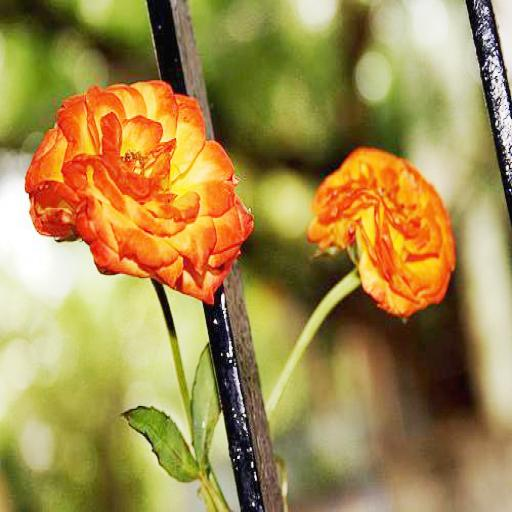rose: (26, 80, 253, 301)
